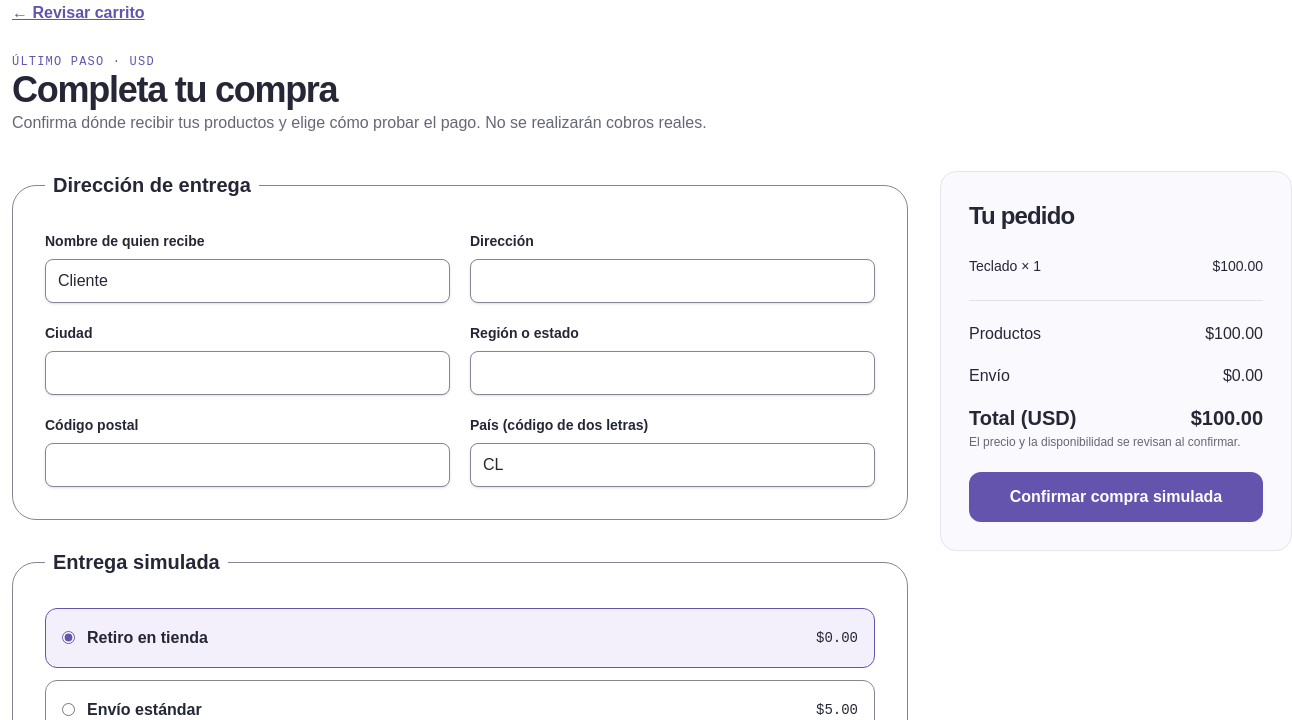
Test: checkout form › reports stock conflicts and keeps the cart available for correction
Type "Av. Central 123" into the field labelled "Dirección" at (672, 281), box x1=470 y1=259 x2=875 y2=303
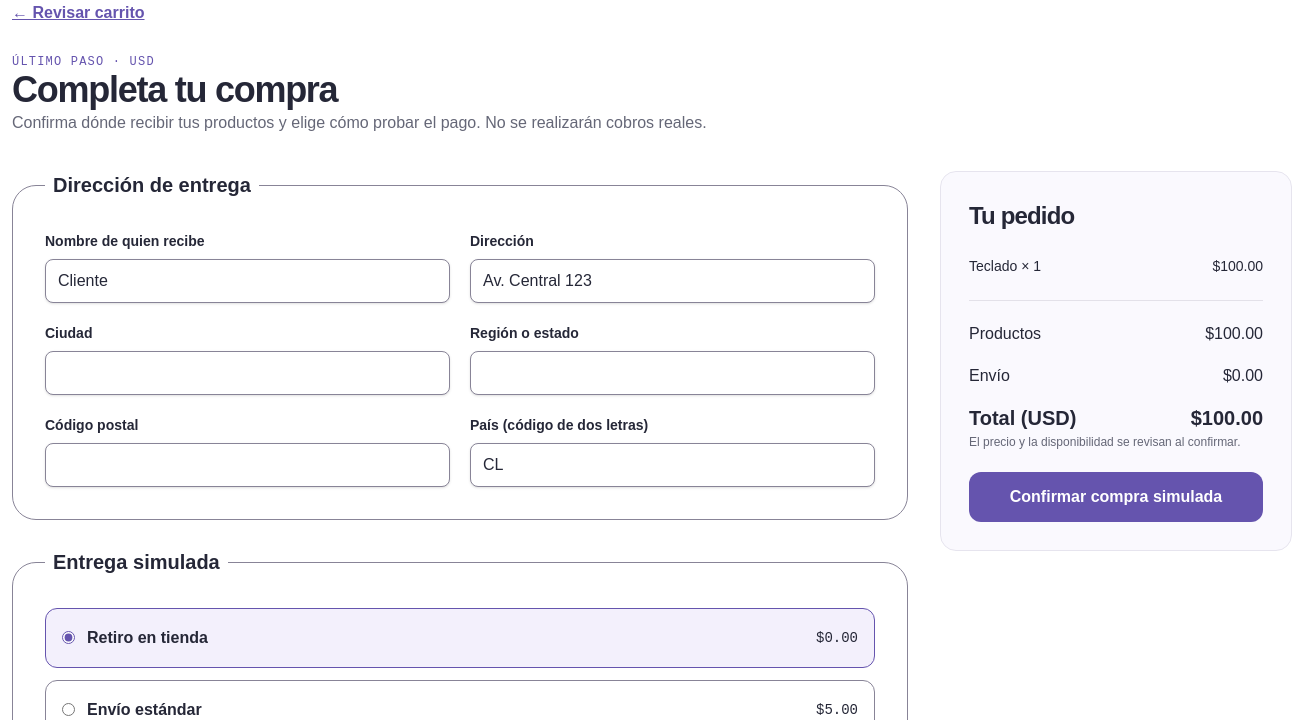
Type "Santiago" into the field labelled "Ciudad" at (248, 373), box x1=45 y1=351 x2=450 y2=395
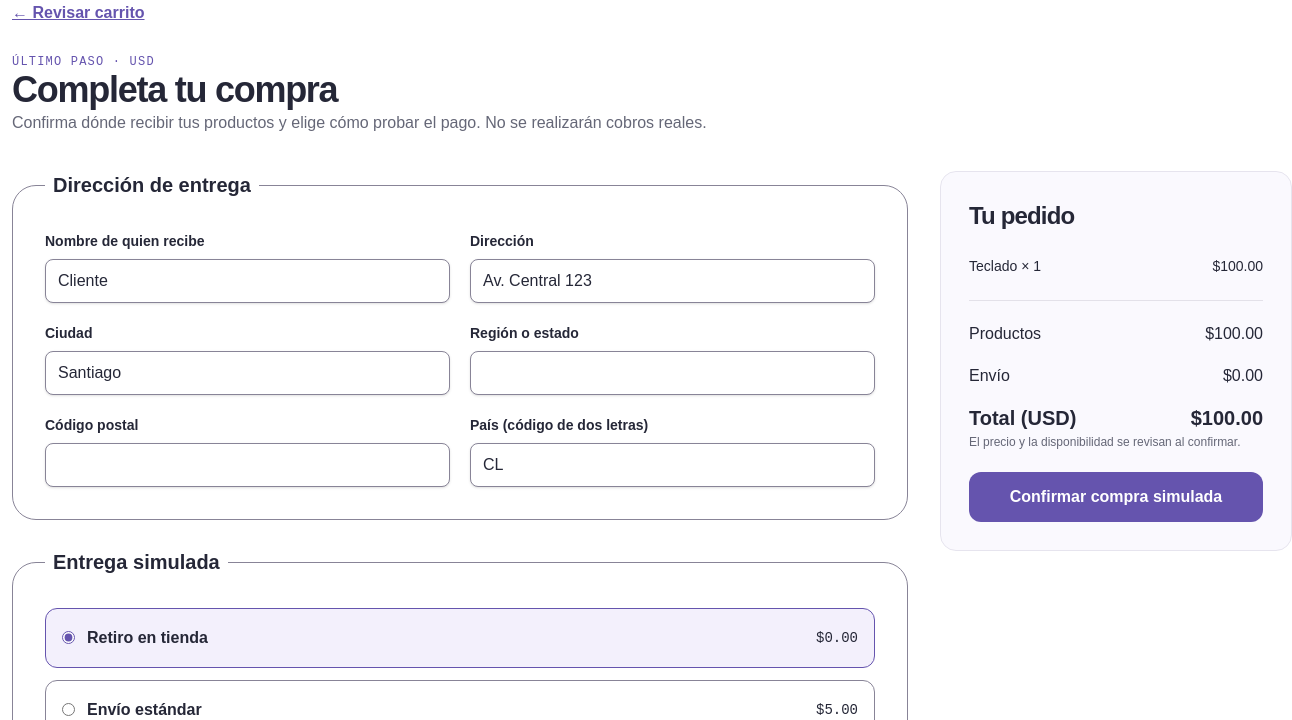
Type "Metropolitana" into the field labelled "Región o estado" at (672, 373), box x1=470 y1=351 x2=875 y2=395
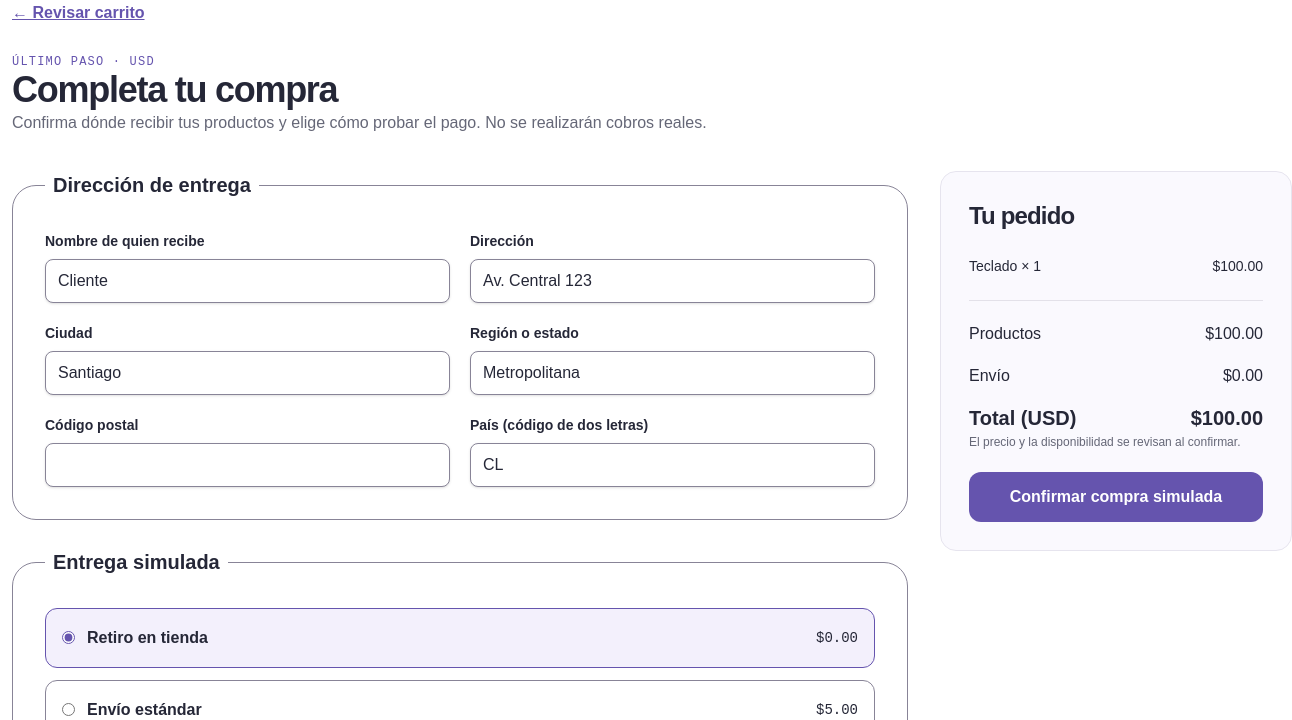
Type "8320000" into the field labelled "Código postal" at (248, 465), box x1=45 y1=443 x2=450 y2=487
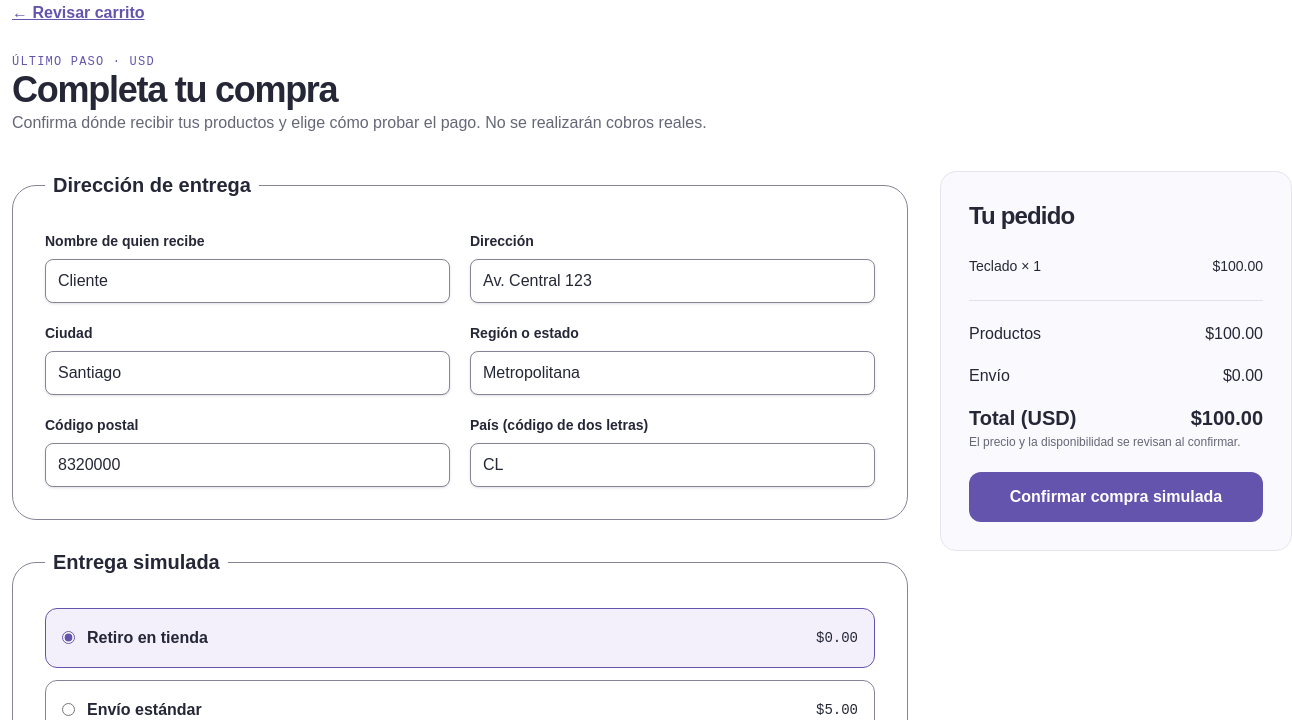
Click the button "Confirmar compra simulada" at (1116, 497), box x1=969 y1=472 x2=1263 y2=522
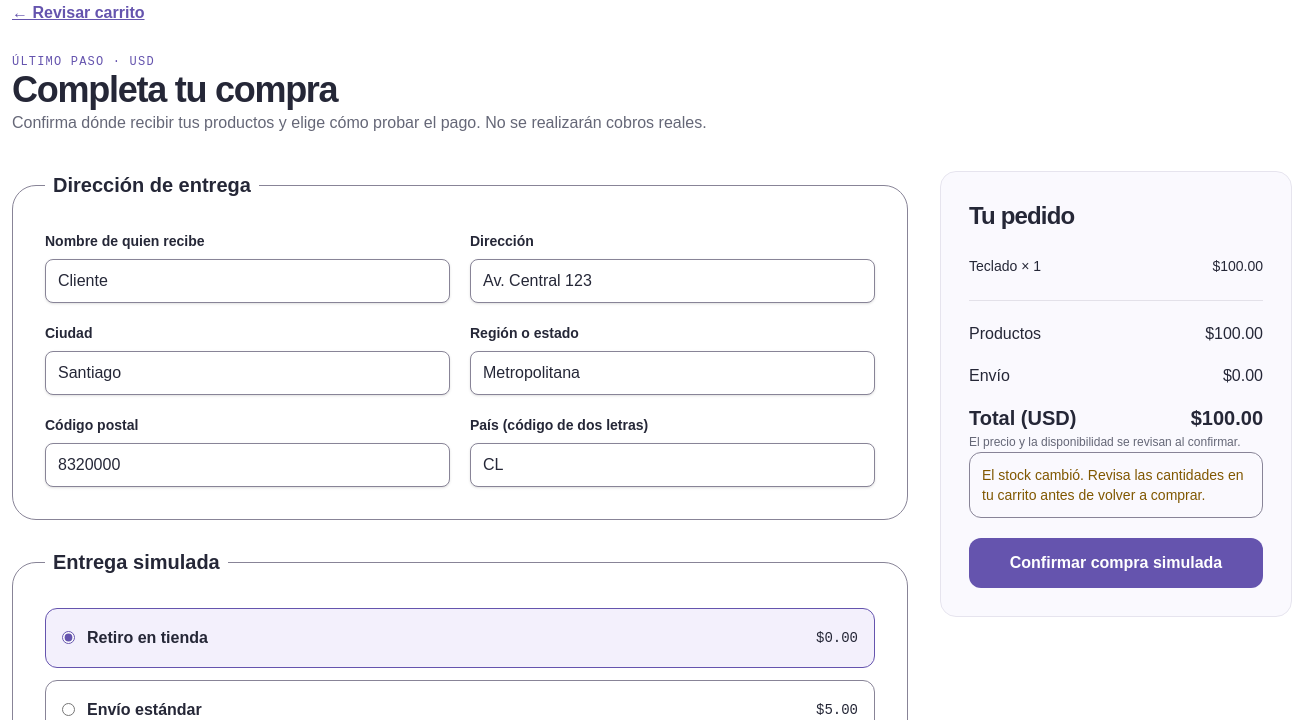
Expected: the message shows "El stock cambió", x1=982 y1=467 x2=1244 y2=503
